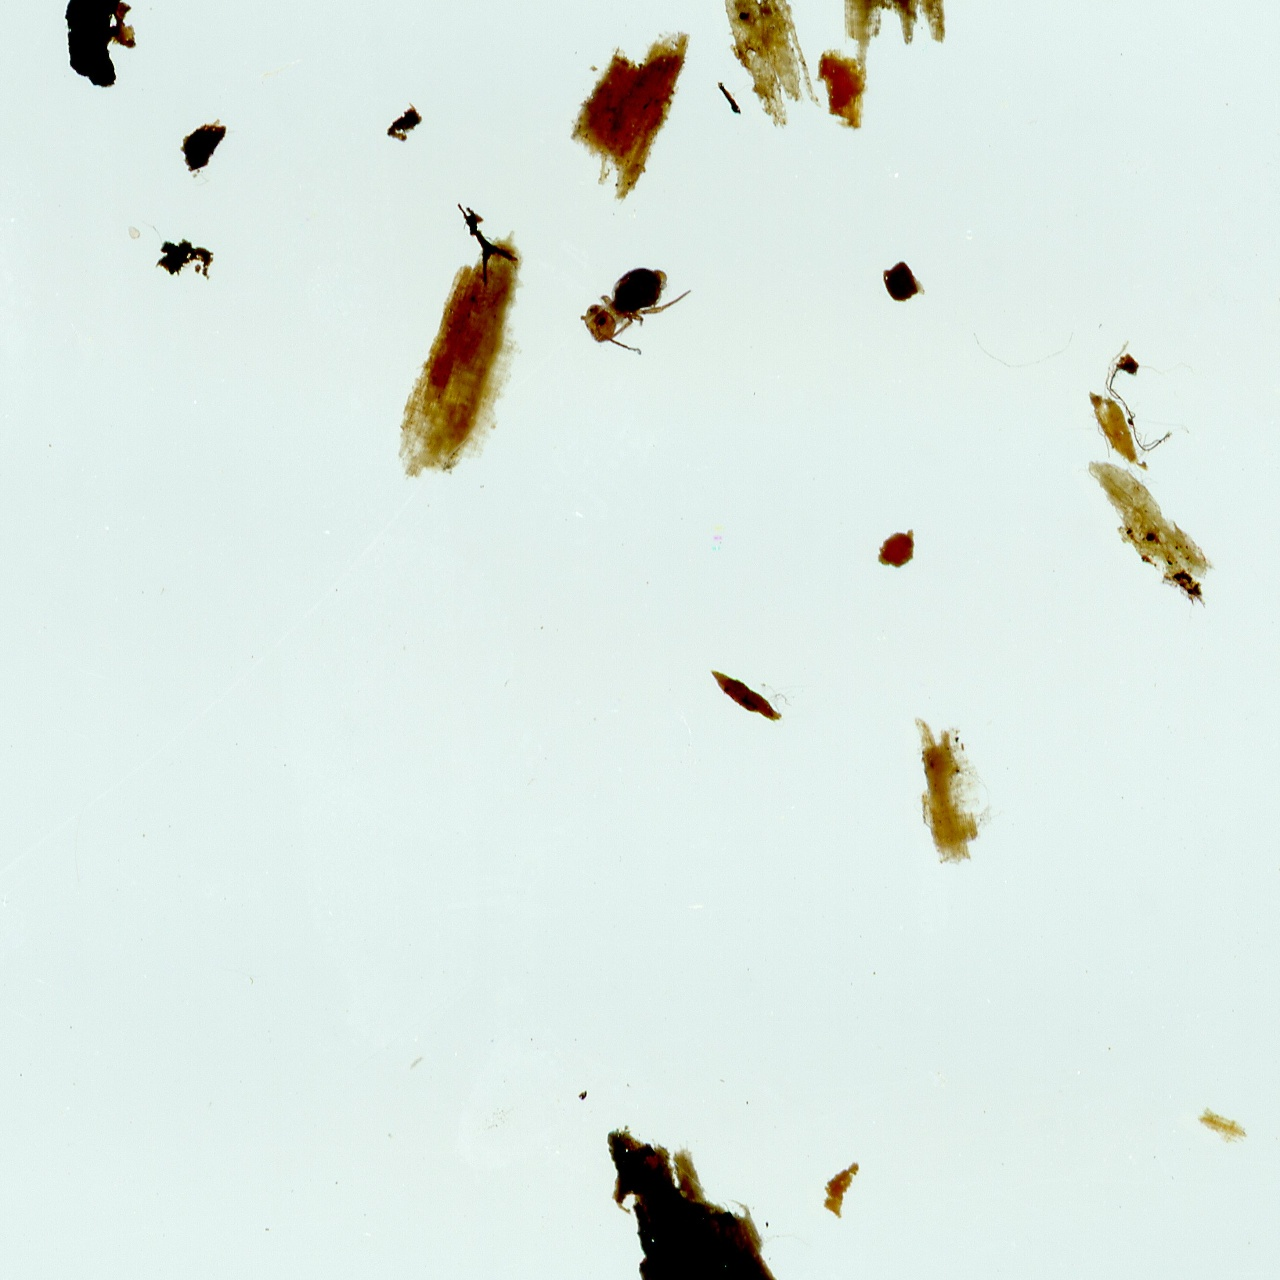arthropod: (574, 260, 699, 363)
